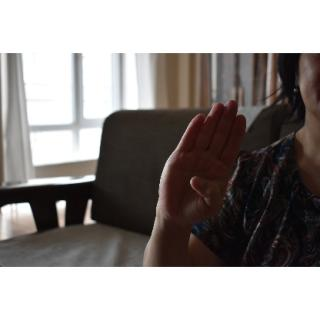KAAF: (150, 95, 247, 235)
